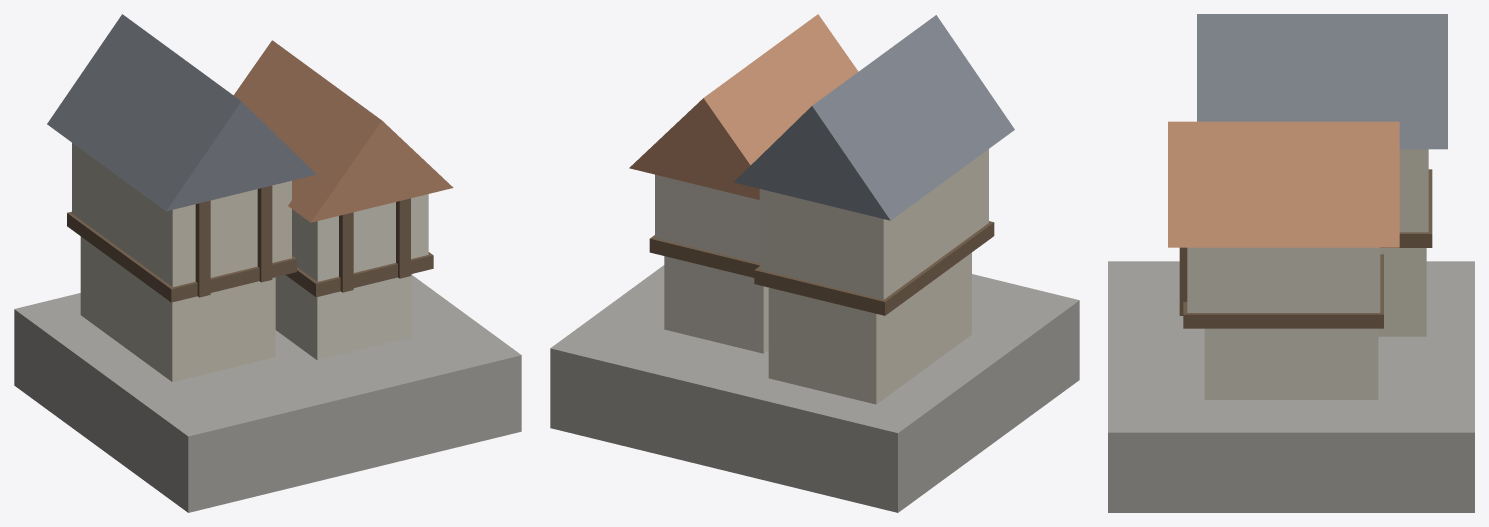
The model's file is house-medieval-0.glb.
3 views of the same model, side by side, from view 1: azimuth 30°, elevation 25°; view 2: azimuth 150°, elevation 25°; view 3: azimuth 270°, elevation 25° (orthographic). The views are drawn at different scales.
Parts seen in each view (by area): view 1: LOD0; view 2: LOD0; view 3: LOD0.
Part boxes in pixels (x1=…): LOD0: x1=14, y1=14, x2=521, y2=512; LOD0: x1=550, y1=14, x2=1079, y2=512; LOD0: x1=1108, y1=14, x2=1474, y2=512.
Size of what is drawn, in the model's own units: 0.21 by 0.2152 by 0.19.
